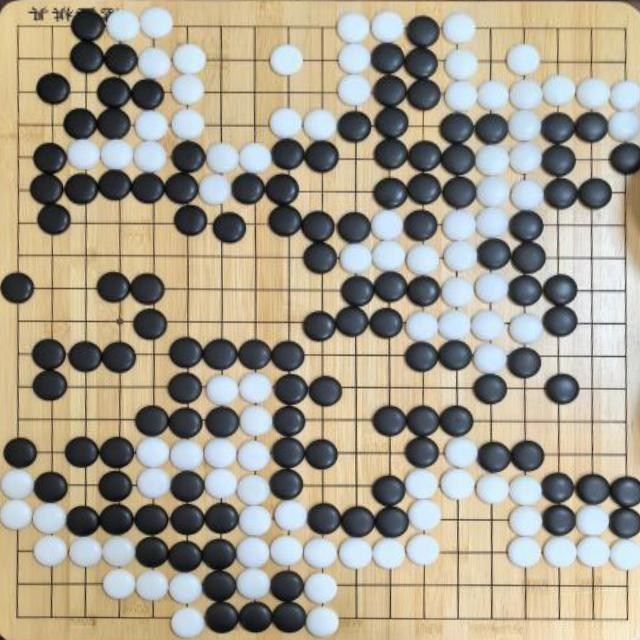blackstone: (406, 172, 442, 206), (96, 107, 132, 141), (98, 503, 135, 536), (201, 570, 238, 603), (170, 470, 205, 504), (270, 570, 305, 604), (32, 369, 68, 402), (511, 241, 547, 274), (99, 437, 135, 470), (440, 143, 476, 176), (202, 338, 238, 371), (130, 272, 166, 305), (170, 503, 206, 536), (171, 140, 207, 173), (201, 538, 237, 571), (302, 309, 336, 343), (542, 144, 576, 178), (63, 108, 98, 141), (134, 504, 169, 537), (168, 540, 203, 573), (373, 74, 408, 107), (70, 41, 105, 74), (103, 43, 138, 76), (70, 9, 105, 42), (64, 436, 100, 468), (164, 172, 200, 204), (508, 210, 544, 242), (33, 472, 69, 504), (98, 471, 134, 503), (406, 78, 442, 110), (204, 602, 240, 634), (238, 601, 274, 633), (134, 308, 168, 341), (231, 172, 265, 205), (168, 372, 202, 405), (37, 203, 71, 236), (264, 173, 298, 206), (442, 176, 476, 209), (96, 271, 130, 304), (32, 338, 66, 371), (30, 173, 64, 206), (135, 536, 169, 569), (303, 242, 338, 274), (477, 238, 512, 270), (508, 274, 543, 306), (305, 140, 340, 172), (168, 407, 203, 439), (271, 437, 306, 469), (205, 406, 240, 438), (307, 503, 342, 535), (374, 106, 409, 138), (204, 503, 239, 535), (405, 405, 440, 437), (3, 438, 38, 470), (575, 474, 610, 506), (130, 78, 165, 110), (371, 42, 406, 74), (272, 601, 307, 633), (340, 507, 376, 538), (102, 341, 136, 373), (174, 205, 208, 237), (68, 341, 102, 373), (404, 209, 438, 241), (510, 440, 544, 472), (544, 178, 578, 210), (302, 210, 336, 242), (374, 138, 408, 170), (169, 337, 203, 369), (64, 173, 98, 205), (274, 374, 308, 406), (374, 506, 408, 538), (373, 271, 407, 303), (131, 172, 165, 204), (270, 138, 304, 170), (98, 169, 132, 201), (578, 178, 612, 210), (541, 472, 575, 504), (271, 340, 305, 372), (238, 339, 272, 371), (66, 506, 100, 538), (543, 274, 577, 306), (439, 112, 473, 144), (542, 112, 576, 144), (33, 142, 67, 174), (574, 111, 608, 143), (36, 73, 70, 105), (404, 46, 438, 78), (97, 76, 131, 108), (406, 15, 440, 47), (438, 341, 473, 372), (268, 206, 303, 237), (543, 306, 578, 337), (135, 405, 168, 437), (1, 272, 34, 304), (508, 348, 542, 379), (335, 306, 369, 337), (405, 437, 439, 468), (374, 178, 408, 209), (340, 276, 374, 307), (338, 111, 372, 142), (439, 405, 473, 436), (212, 212, 246, 243), (269, 468, 303, 499), (338, 212, 372, 243), (408, 141, 442, 172), (542, 505, 576, 536), (475, 113, 509, 144), (609, 142, 640, 176), (473, 374, 508, 404), (406, 276, 441, 306), (545, 374, 580, 404), (309, 377, 342, 408), (373, 406, 406, 437), (369, 308, 403, 338), (404, 342, 438, 372), (304, 440, 338, 470), (478, 442, 512, 472), (372, 476, 406, 506), (609, 476, 640, 508), (274, 406, 306, 437), (609, 508, 640, 538)
whitestone: (32, 502, 67, 536), (33, 534, 68, 568), (442, 240, 478, 273), (474, 144, 510, 177), (136, 467, 172, 500), (440, 468, 476, 501), (68, 535, 104, 568), (236, 536, 272, 569), (405, 534, 441, 567), (239, 404, 273, 438), (304, 572, 338, 606), (371, 239, 406, 272), (471, 309, 506, 342), (238, 504, 273, 537), (105, 9, 140, 42), (407, 498, 442, 531), (543, 536, 578, 569), (336, 75, 372, 107), (238, 372, 274, 404), (172, 43, 208, 75), (236, 568, 272, 600), (302, 538, 338, 570), (134, 140, 168, 173), (339, 243, 373, 276), (444, 80, 478, 113), (510, 179, 544, 212), (67, 138, 101, 171), (406, 243, 440, 276), (508, 142, 542, 175), (509, 313, 543, 346), (476, 174, 510, 207), (237, 439, 271, 472), (576, 77, 610, 110), (274, 499, 308, 532), (576, 536, 609, 570), (134, 110, 169, 142), (171, 109, 206, 141), (474, 272, 509, 304), (475, 206, 510, 238), (405, 311, 440, 343), (203, 438, 238, 470), (442, 209, 477, 241), (136, 436, 171, 468), (236, 474, 271, 506), (443, 437, 478, 469), (101, 536, 136, 568), (506, 43, 541, 75), (370, 10, 405, 42), (168, 573, 203, 605), (135, 570, 170, 602), (139, 6, 174, 38), (442, 12, 477, 44), (507, 537, 542, 569), (338, 538, 373, 570), (171, 607, 206, 639), (198, 173, 231, 206), (438, 309, 471, 342), (1, 468, 34, 501), (607, 109, 640, 142), (100, 139, 134, 171), (269, 107, 303, 139), (441, 276, 475, 308), (508, 110, 542, 142), (206, 375, 240, 407), (444, 50, 478, 82), (338, 42, 372, 74), (170, 439, 204, 471), (204, 468, 238, 500), (509, 505, 543, 537), (405, 468, 439, 500), (576, 504, 610, 536), (269, 534, 303, 566), (102, 568, 136, 600), (270, 44, 304, 76), (372, 538, 406, 570), (306, 606, 340, 638), (171, 74, 206, 105), (475, 474, 511, 504), (207, 142, 240, 174), (239, 141, 272, 173), (304, 109, 337, 141), (138, 47, 171, 79), (371, 209, 404, 241), (0, 499, 33, 531), (608, 538, 640, 571), (509, 79, 543, 110), (473, 342, 507, 373), (542, 75, 576, 106), (508, 475, 542, 506), (477, 80, 510, 111), (336, 12, 369, 43), (609, 80, 640, 111)
